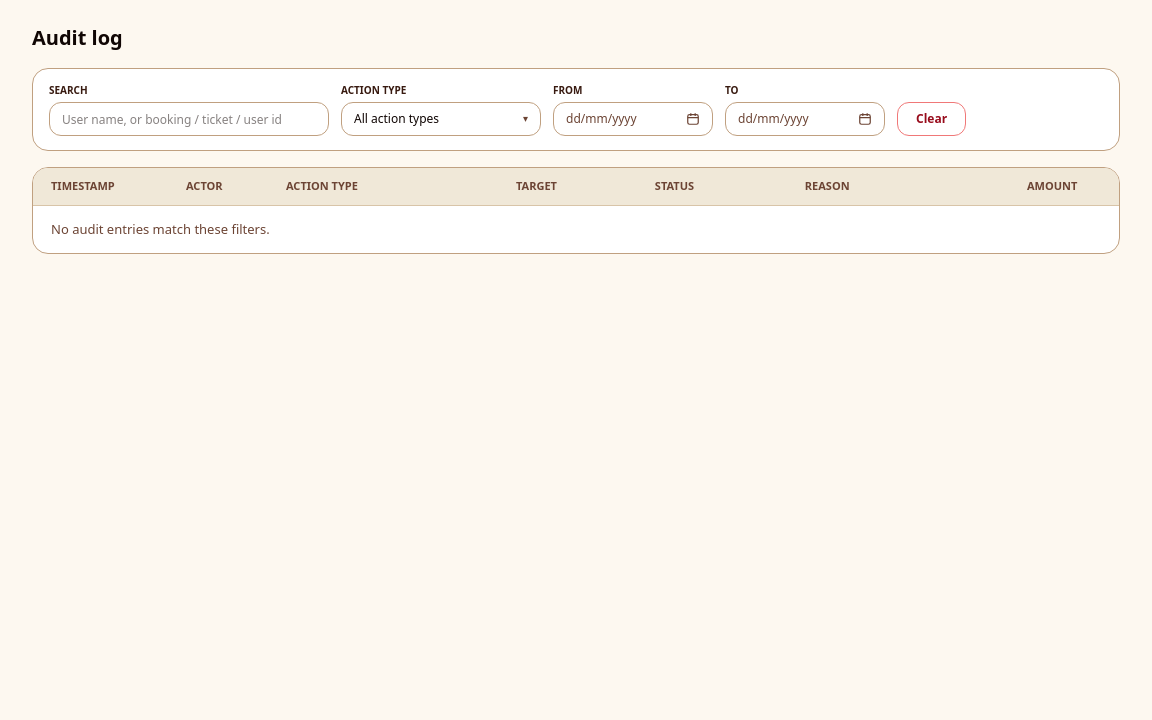
Scenario: AuditLogView (F11, F15) › asks for nothing while From is after To
Expected: the text "No audit entries match these filters." is shown, [51, 220, 270, 238]
What coordinates should you click on to do the following:
click the button with aria-label "From"
I would click on:
 (617, 119)
Its box is [554, 103, 680, 135].
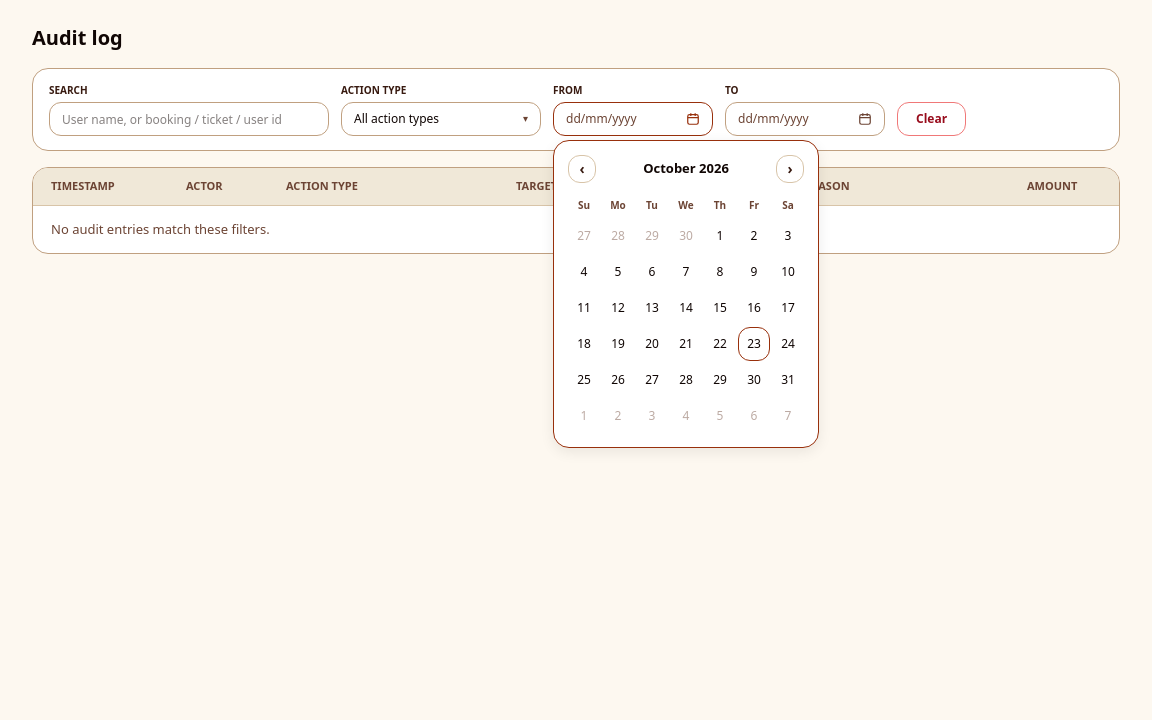
What coordinates should you click on to do the following:
click the button "20"
I would click on:
 (652, 344)
Its box is [636, 327, 668, 361].
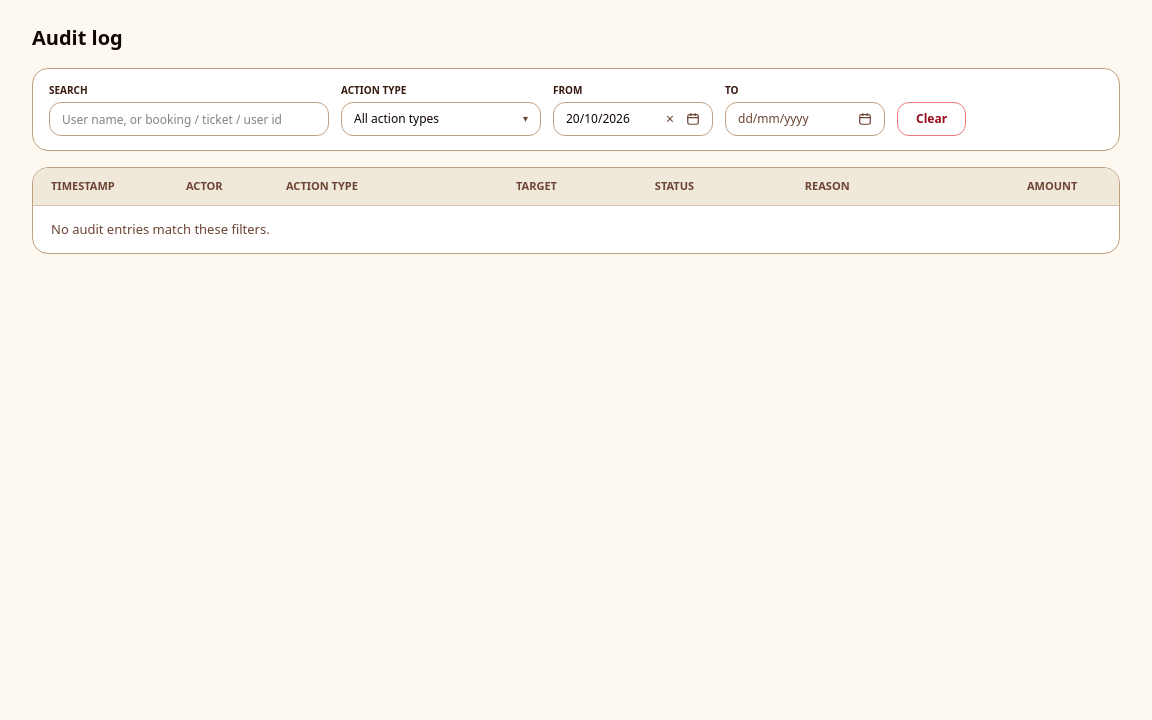
What coordinates should you click on to do the following:
click the button with aria-label "To"
I would click on:
 (789, 119)
Its box is [726, 103, 852, 135].
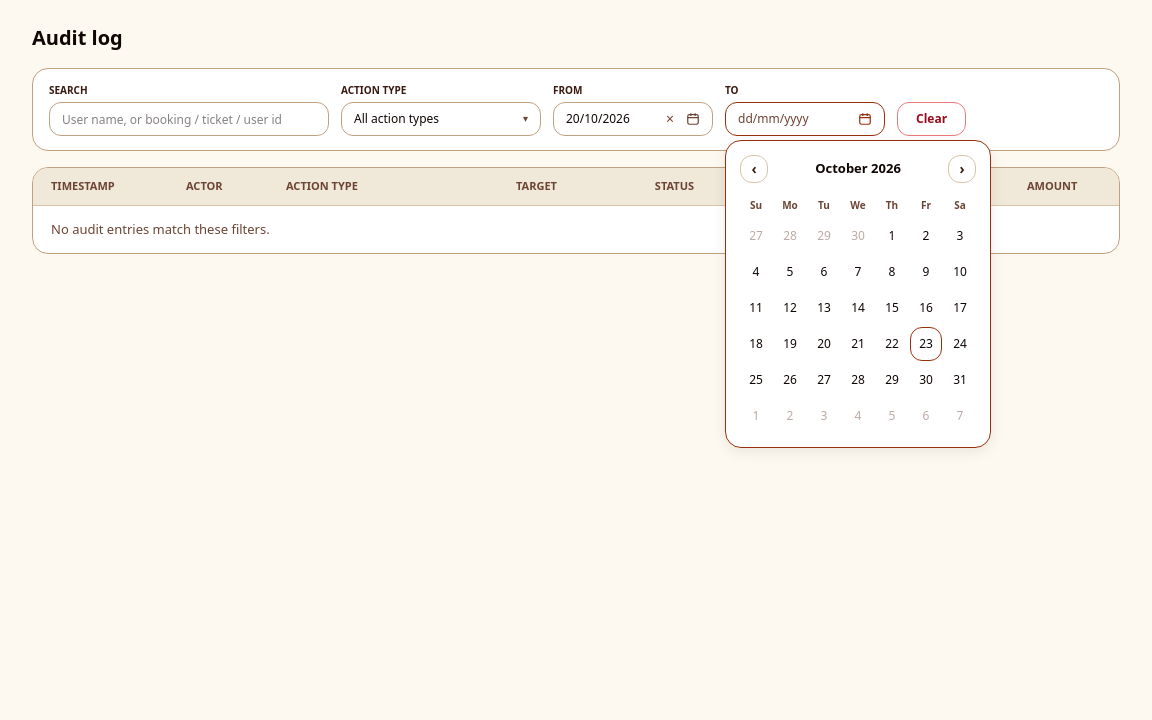
What coordinates should you click on to do the following:
click the button "10"
I would click on:
 (960, 272)
Its box is [944, 255, 976, 289].
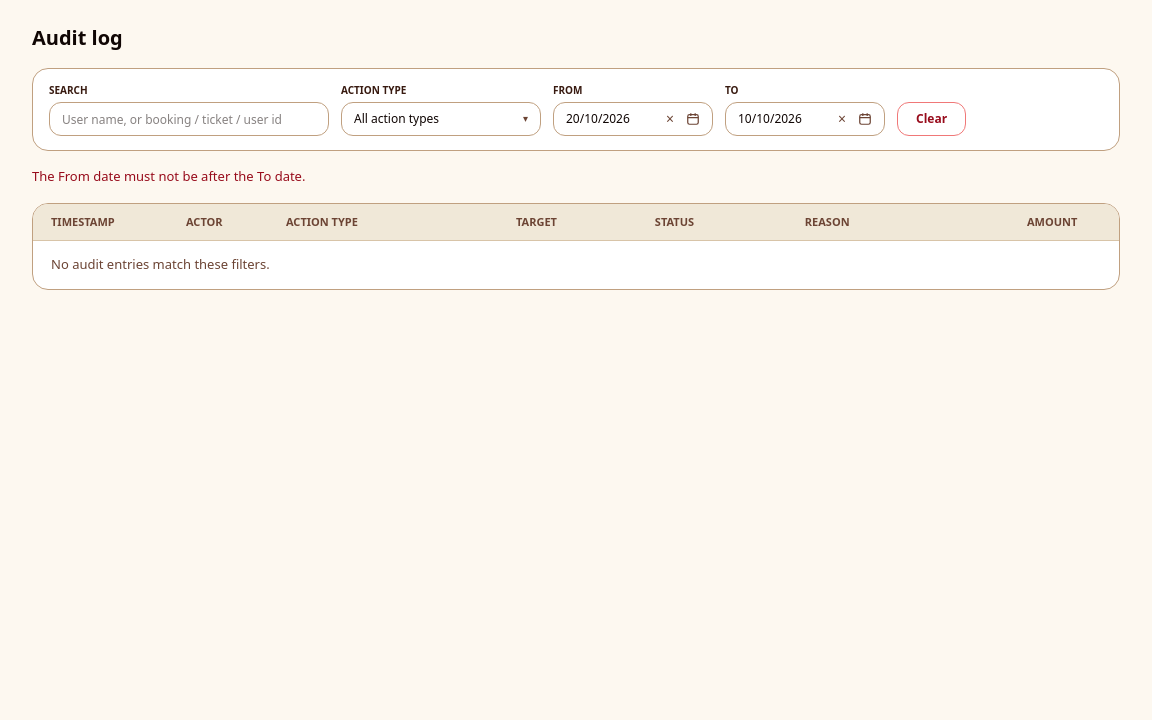
Now the text "The From date must not be after the To date." is shown, box [32, 167, 305, 185]
